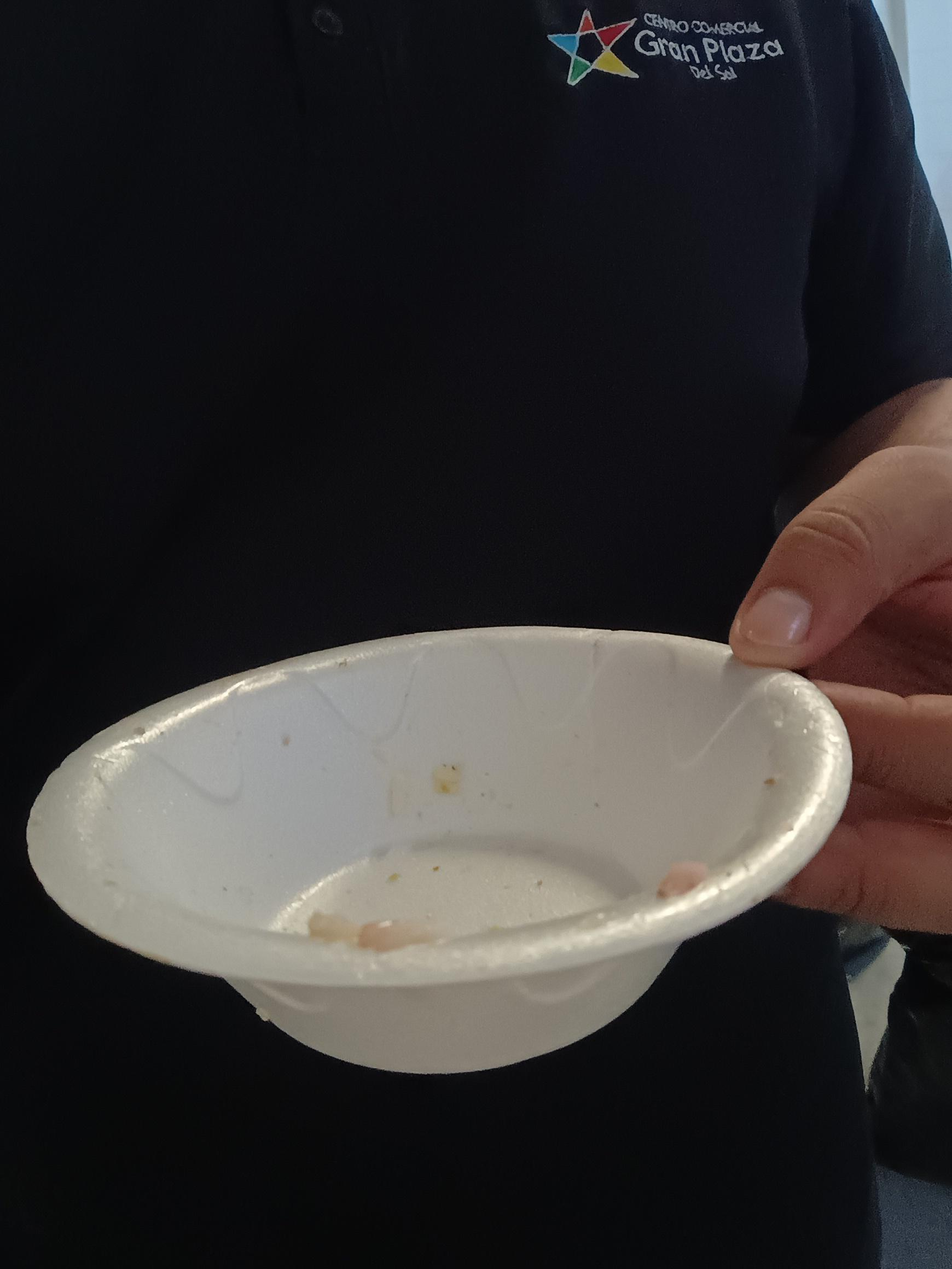Ordinario: (23, 623, 853, 1076)
